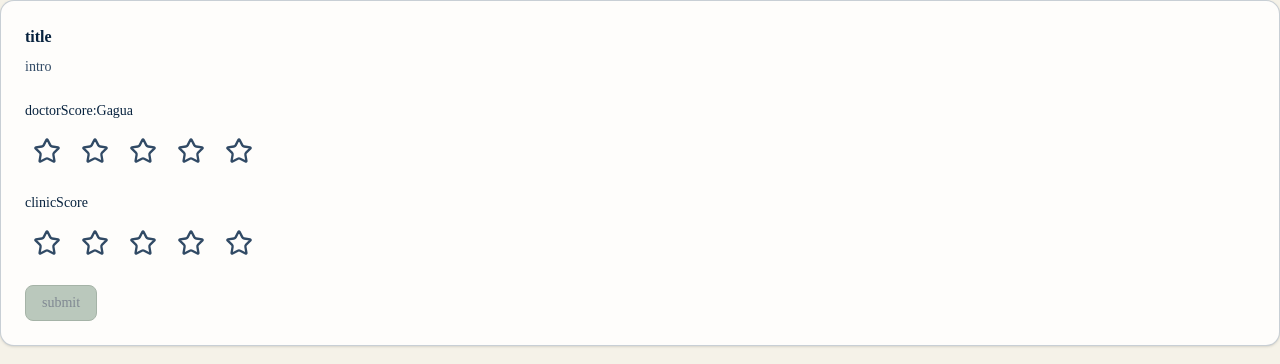
Test: PortalRatingCard › submission is blocked until both are given › enables once both are given
What coordinates should you click on to do the following:
click the radio button named "scoreOf:1" below "doctorScore:Gagua"
I would click on:
 (47, 151)
Its box is 25,129 -> 69,173.
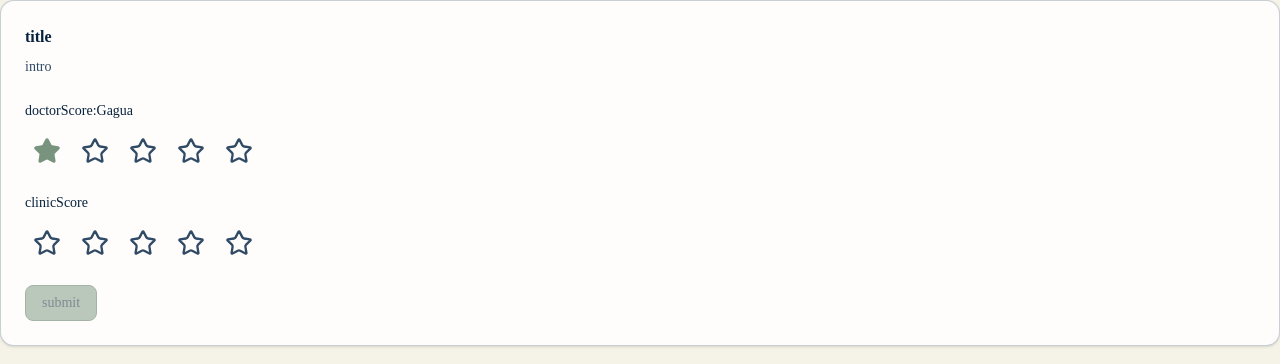
What coordinates should you click on to do the following:
click the radio button named "scoreOf:1" below "clinicScore"
I would click on:
 (47, 243)
Its box is 25,221 -> 69,265.
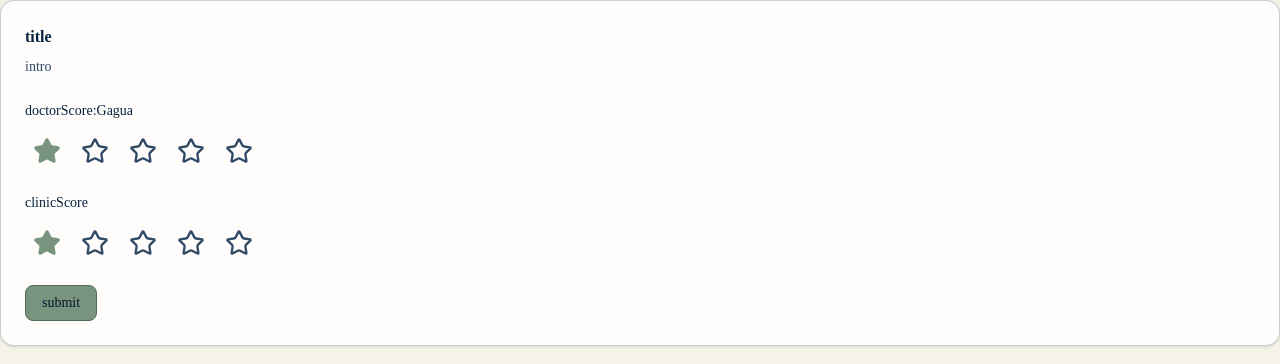
Now the button "submit" is enabled, box 25,285 -> 97,321
